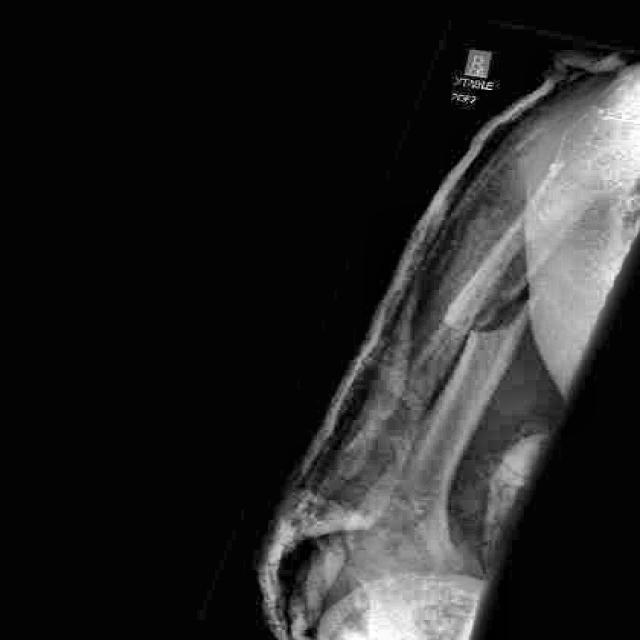humerus: (395, 272, 571, 421)
